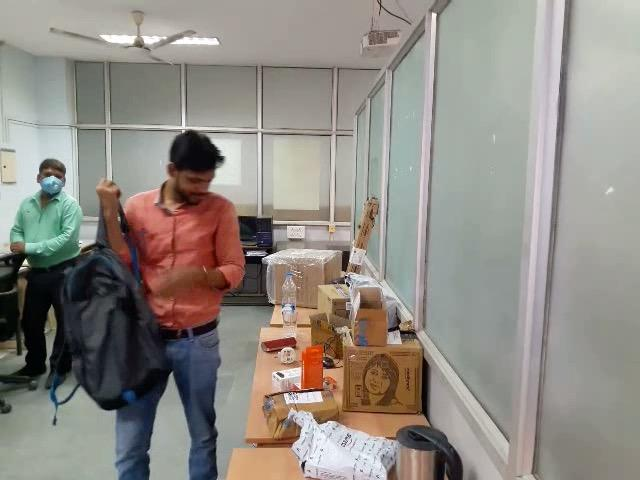Normal: (2, 120, 249, 480)
